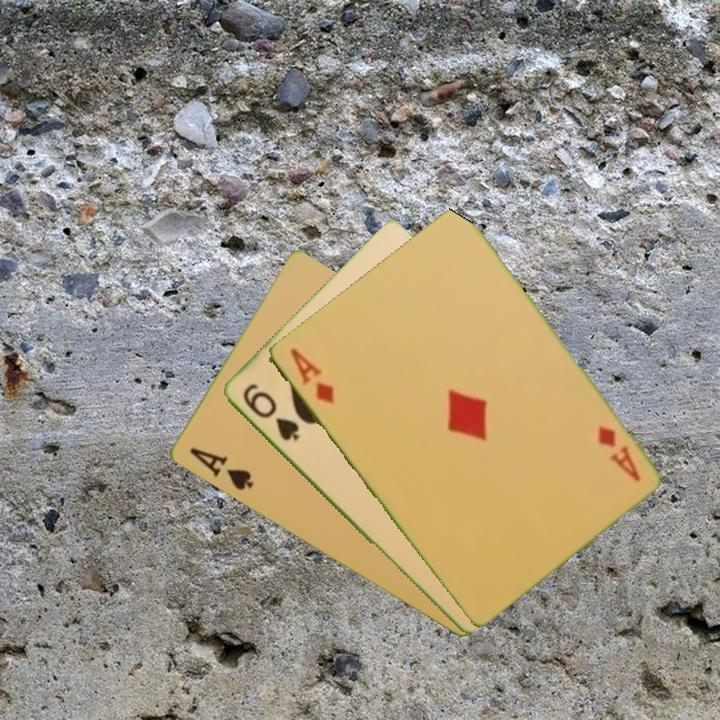6s: (239, 379, 302, 444)
Ad: (286, 344, 337, 407), (593, 422, 643, 485)
As: (185, 444, 257, 494)
